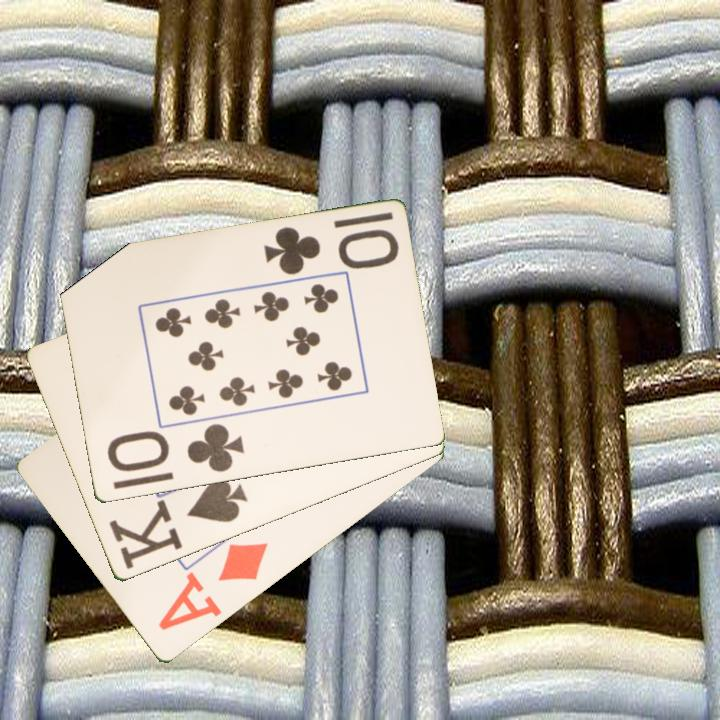10c: (103, 420, 247, 476), (260, 223, 402, 279)
Ad: (154, 539, 271, 635)
Ks: (105, 476, 251, 573)
